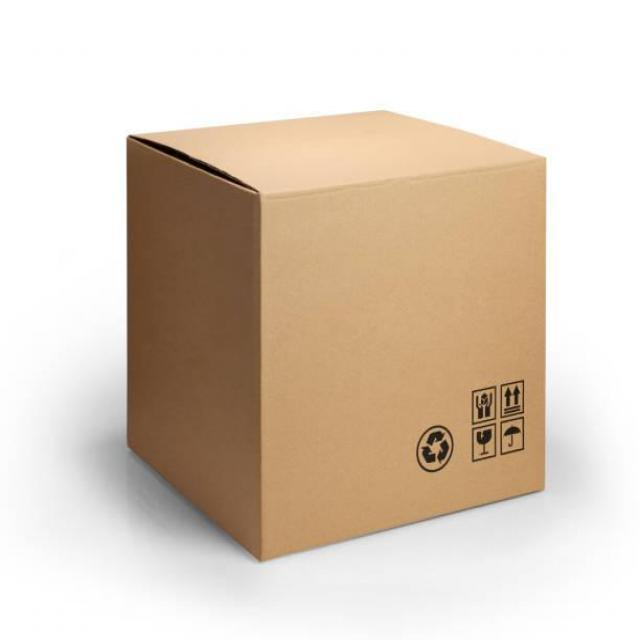box: (115, 97, 550, 567)
